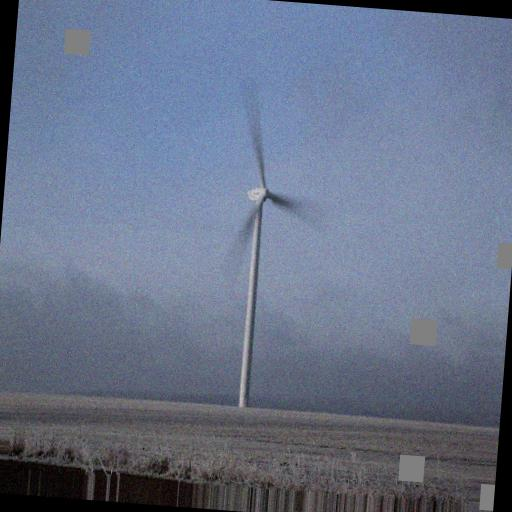wind turbine: (226, 78, 325, 408)
